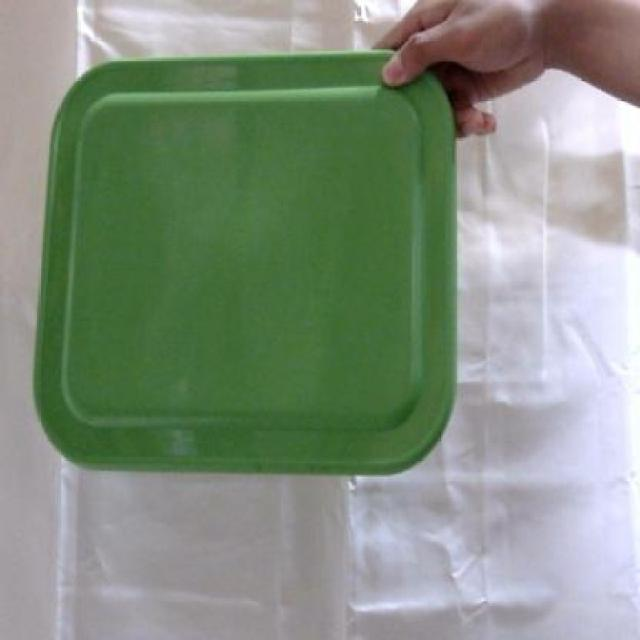Plastic: (33, 49, 457, 475)
